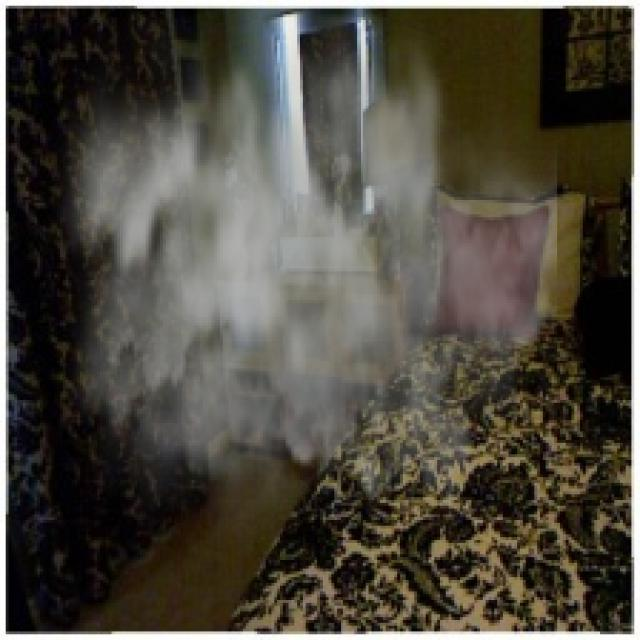Smoke: (31, 14, 558, 563)
